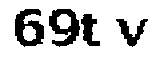6: (9, 6, 46, 50)
9: (47, 6, 80, 49)
t: (81, 10, 104, 49)
v: (113, 16, 154, 50)
